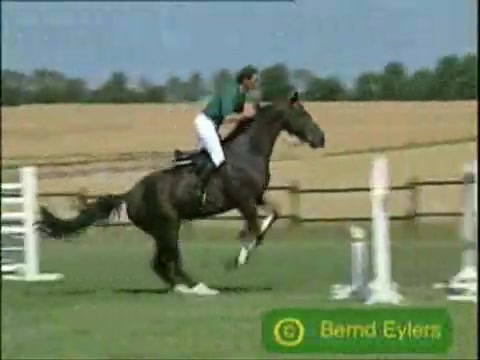horse: (36, 91, 327, 296)
